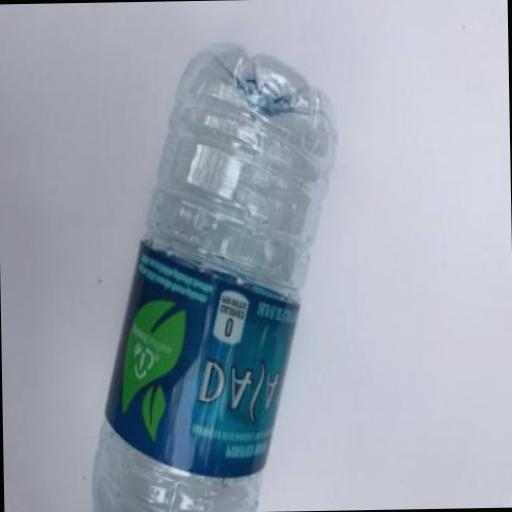plastic: (83, 38, 345, 512), (103, 237, 305, 480)
